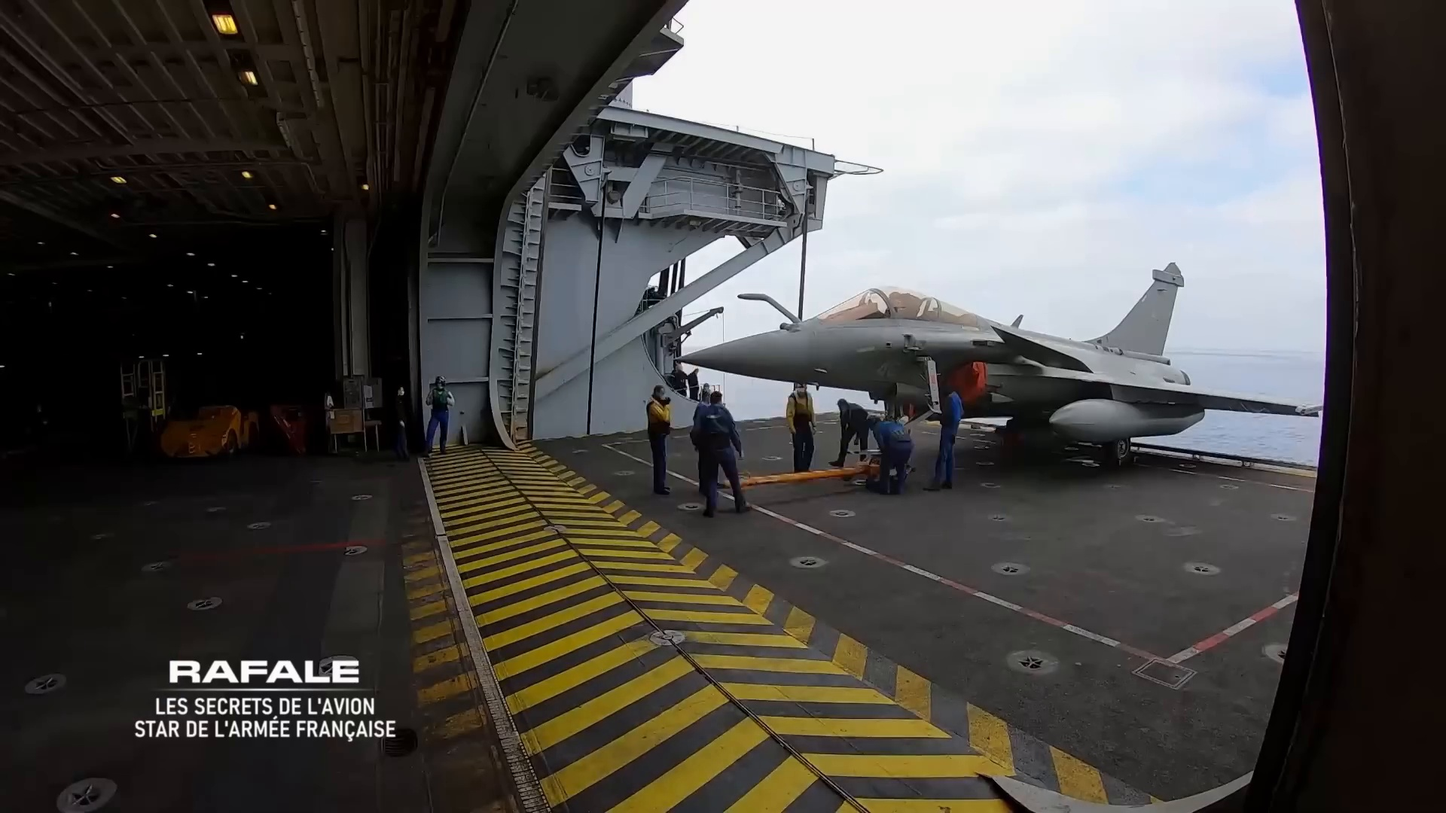Rafale: (676, 254, 1324, 472)
